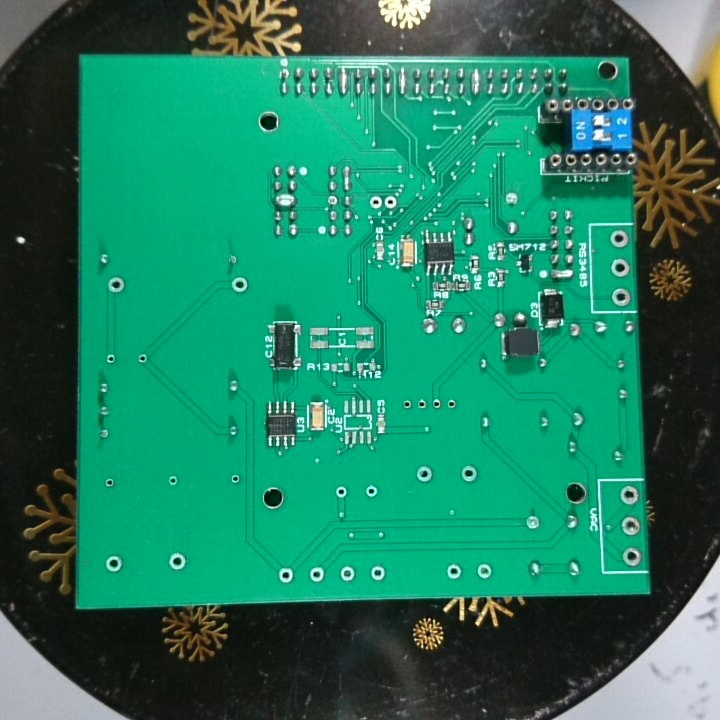F: (166, 548, 190, 575), (618, 512, 641, 540), (105, 274, 130, 299), (101, 553, 128, 575), (607, 227, 630, 252), (617, 484, 641, 507), (367, 561, 390, 583), (609, 257, 630, 281), (523, 511, 544, 535), (414, 462, 435, 486), (227, 274, 251, 295), (307, 562, 327, 587), (338, 563, 359, 586), (459, 462, 479, 486), (620, 546, 641, 568), (610, 285, 630, 308), (276, 564, 296, 587), (501, 190, 524, 209), (473, 561, 494, 581), (382, 189, 400, 211), (444, 562, 464, 581), (367, 192, 384, 213), (94, 425, 113, 443), (332, 483, 350, 501), (224, 249, 242, 267), (227, 469, 243, 489), (274, 67, 293, 83), (135, 349, 150, 369), (444, 393, 457, 416), (364, 482, 380, 500), (104, 350, 119, 369), (416, 394, 429, 415), (429, 392, 442, 413), (103, 474, 119, 491), (399, 397, 416, 413), (166, 472, 181, 490), (324, 192, 339, 209)
P: (273, 191, 298, 209), (468, 67, 483, 96), (395, 66, 409, 97), (548, 266, 575, 282), (338, 64, 350, 97), (341, 163, 353, 192)
